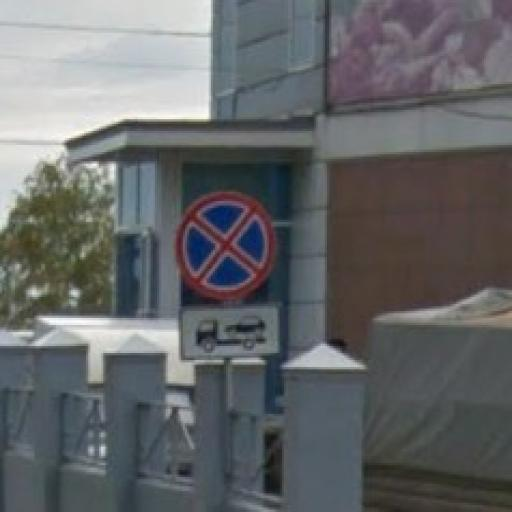traffic_sign: (173, 188, 281, 305)
